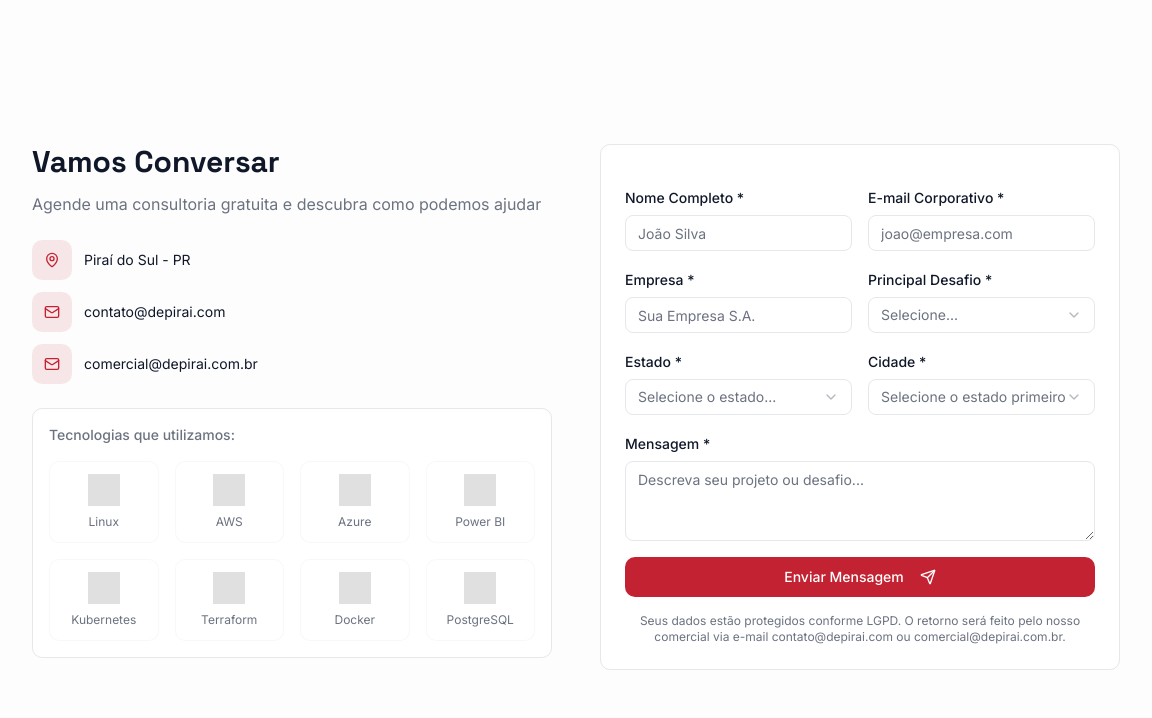
Test case: Contact Form › shows validation errors for empty required fields
// Click submit without filling fields
Click the button "Enviar Mensagem" at [860, 577], box [625,557,1095,597]
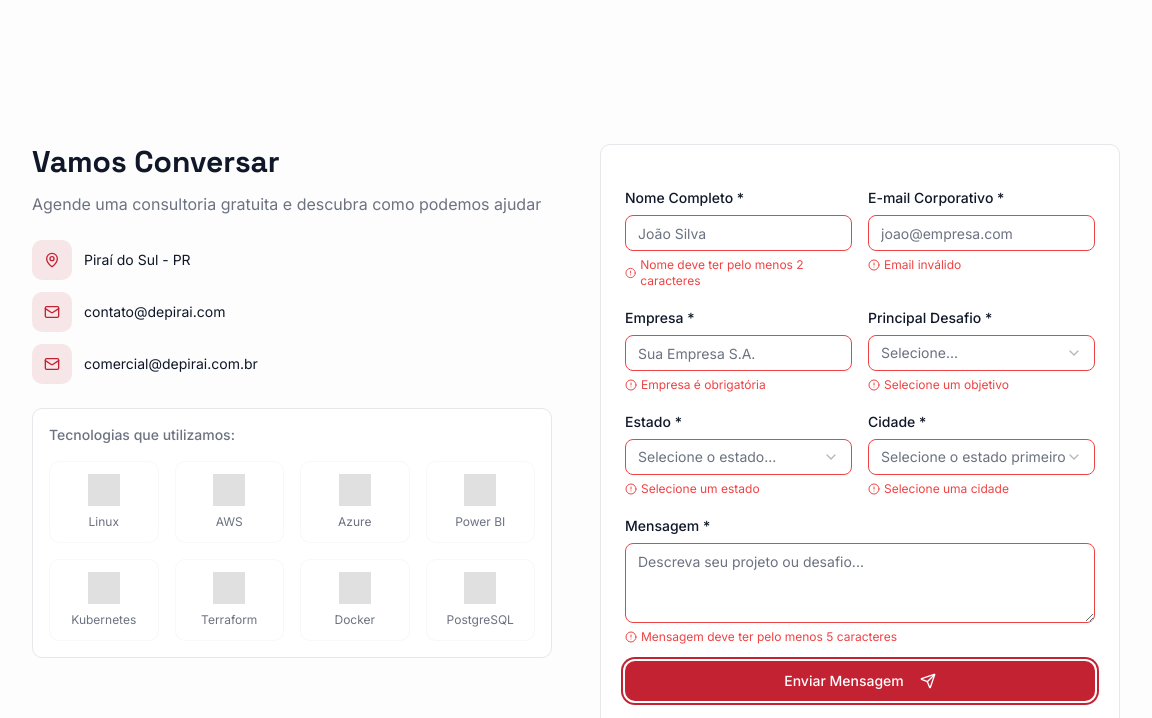
Check: the text "Nome deve ter pelo menos 2 caracteres" is shown, box [625,257,804,288]
